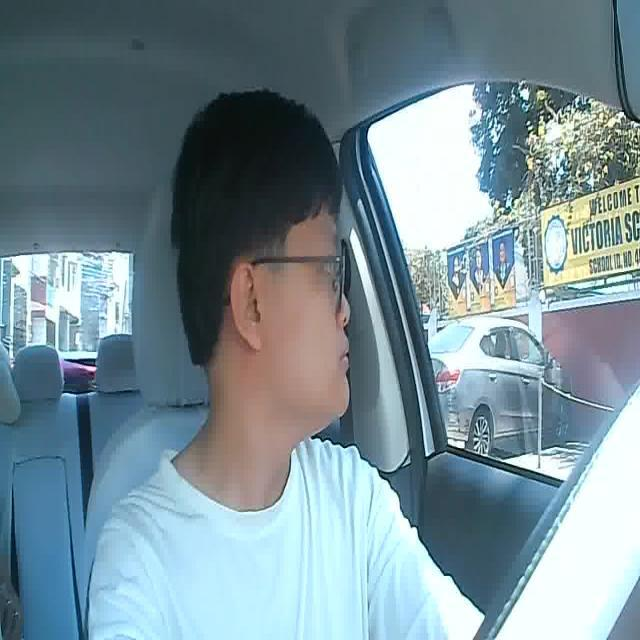Eye-Open: (318, 257, 336, 277)
Inattentive: (172, 92, 350, 414)
Normal: (336, 334, 348, 372)
